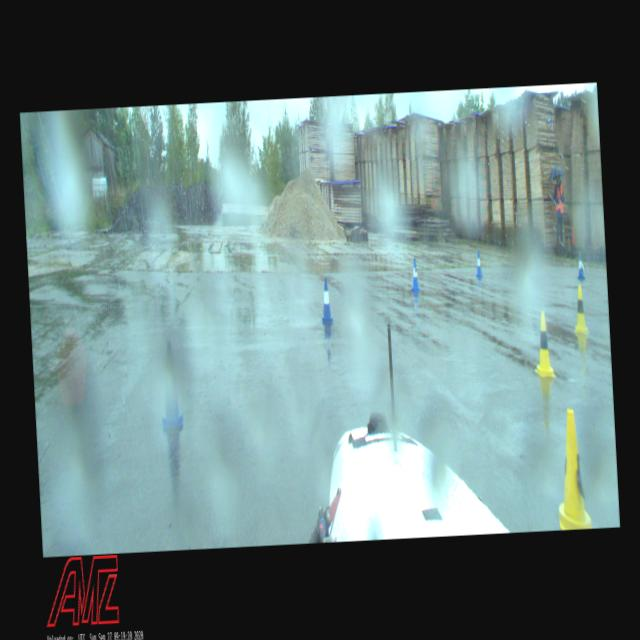blue_cone: (158, 341, 183, 428), (319, 278, 334, 323), (409, 258, 420, 292), (474, 250, 484, 278), (576, 252, 585, 280)
yellow_cone: (554, 408, 592, 530), (532, 312, 556, 378), (572, 285, 589, 334)
